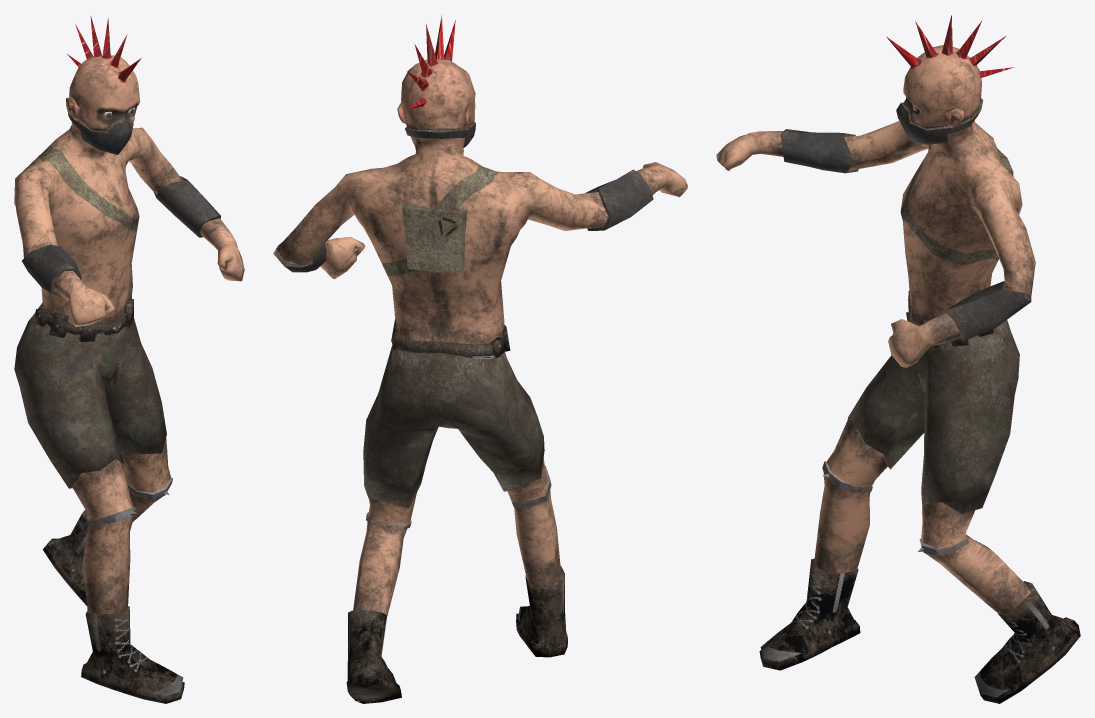
The model's file is Anim_arma_cc_npc2.0013.obj.
The picture shows the model from 3 angles, left to right: view 1: azimuth 30°, elevation 25°; view 2: azimuth 150°, elevation 25°; view 3: azimuth 270°, elevation 25°; orthographic projection. The views are drawn at different scales.
Visible parts, largest first — view 1: polySurface1; view 2: polySurface1; view 3: polySurface1.
Boxes of the visible parts, left/top/right/bottom form: polySurface1: left=14, top=15, right=244, bottom=703; polySurface1: left=273, top=14, right=687, bottom=703; polySurface1: left=716, top=15, right=1080, bottom=703.
Size of the model in its own units: 4.28 by 9.99 by 4.91.
